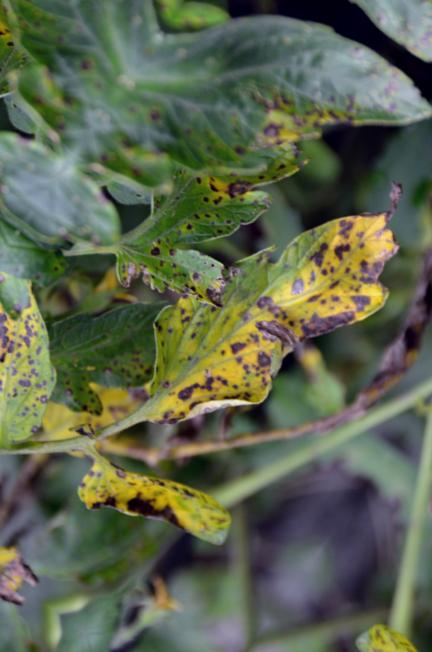Tomato Early blight leaf: (119, 157, 420, 492), (65, 425, 242, 582), (0, 261, 109, 466)
